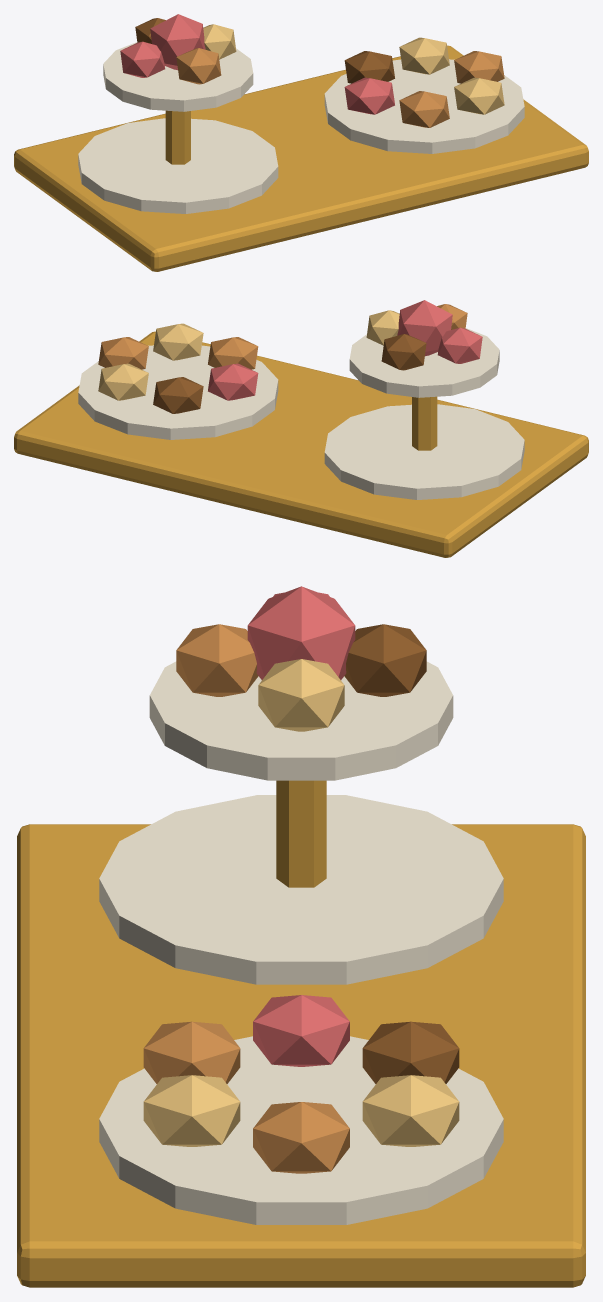
The model's file is cafe_pastry.glb.
3 views of the same model, one above another, from view 1: azimuth 30°, elevation 25°; view 2: azimuth 150°, elevation 25°; view 3: azimuth 270°, elevation 25° (orthographic). The views are drawn at different scales.
Parts seen in each view (by area): view 1: Cube.001; view 2: Cube.001; view 3: Cube.001.
Part boxes in pixels (x1,y1,x2,y2): Cube.001: [14, 14, 588, 271]; Cube.001: [14, 300, 588, 557]; Cube.001: [17, 586, 585, 1287].
Size of the model in its own units: 1.6 by 0.65 by 0.9.
